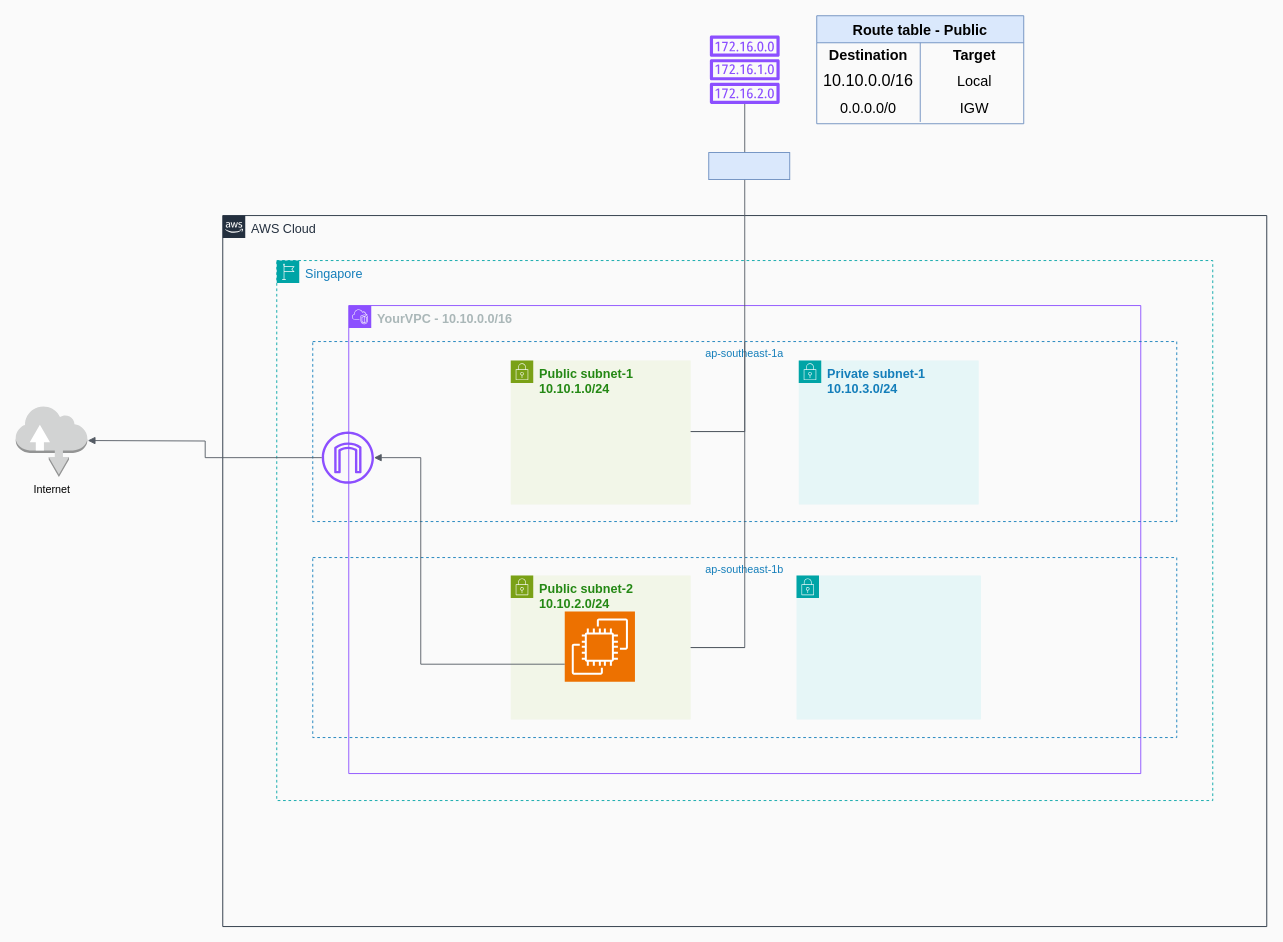
The diagram is 1283 pixels wide and 942 high, and some of its shapes have lost their labels. The centre of each missing label's shape, as x and y in pixels:
"associate" belongs at (x=749, y=166).
"EC2 Public" belongs at (x=599, y=646).
"Internet Gateway" belongs at (x=347, y=457).
"Private subnet-2 10.10.4.0/24" belongs at (x=888, y=647).
